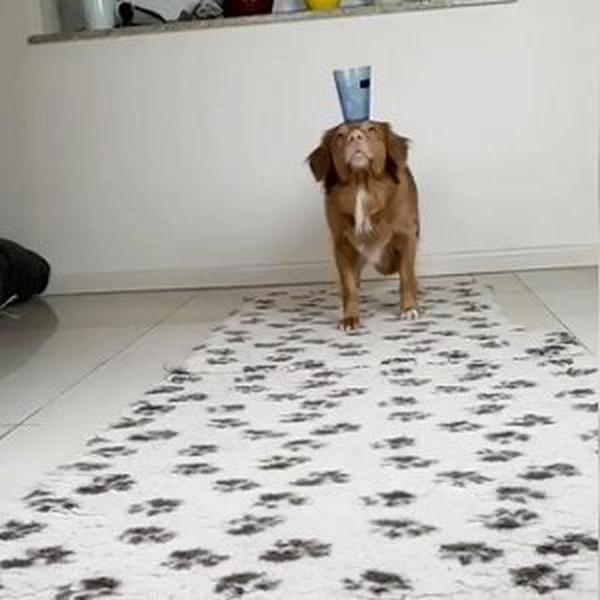allqu: (296, 118, 435, 334)
